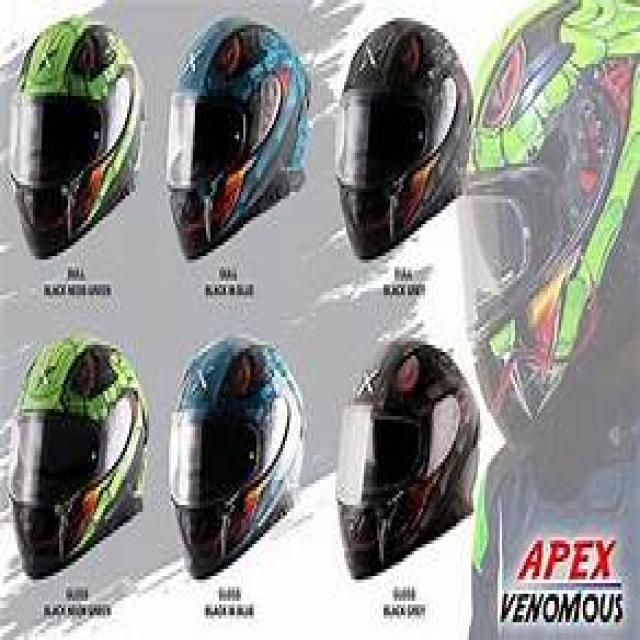helmet: (169, 18, 309, 256), (338, 338, 478, 576), (9, 338, 145, 576), (169, 338, 302, 576), (335, 21, 469, 256), (9, 18, 140, 249)
